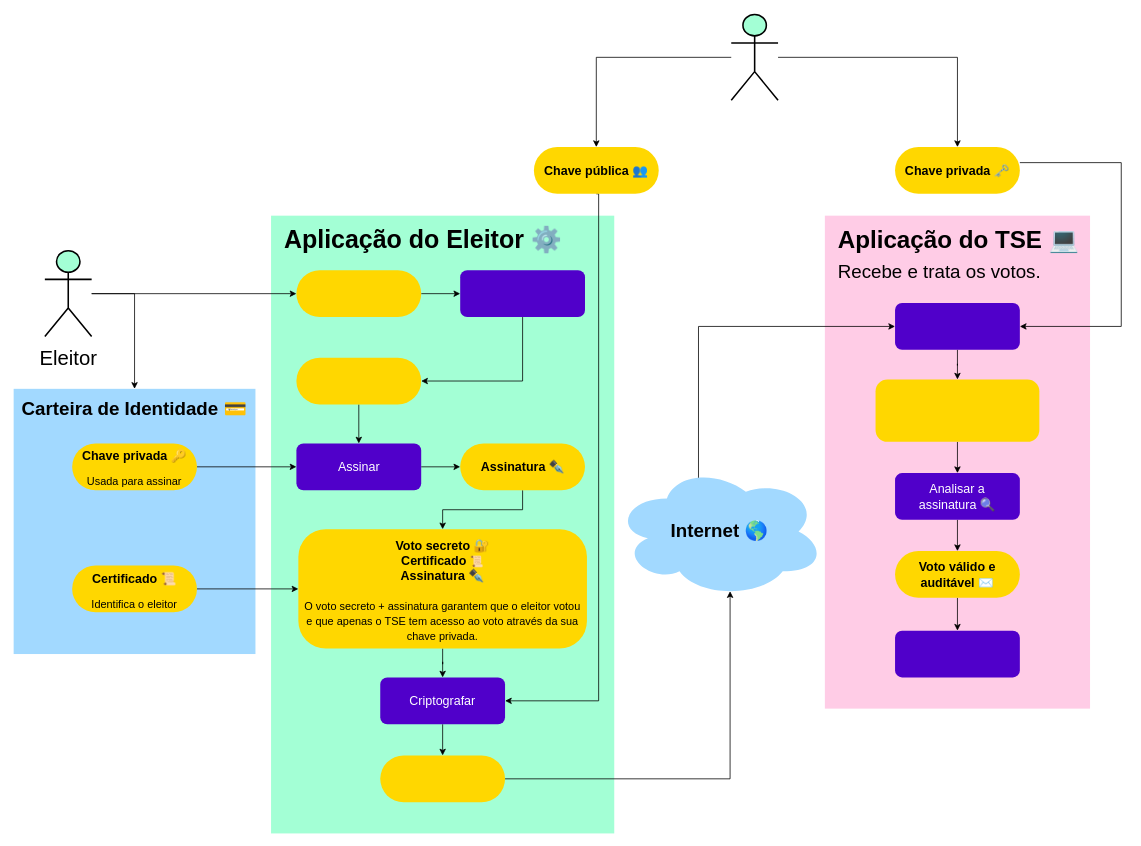
The diagram is 1141 pixels wide and 846 high, and some of its shapes have lost their labels. The centre of each missing label's shape, as x and y in pixels:
"Autoridades da eleição (TSE)" belongs at point (754, 57).
"Calcular função hash" belongs at point (522, 293).
"Decifrar" belongs at point (957, 326).
"Hash do voto secreto" belongs at point (358, 380).
"Pacote criptografado 🔐" belongs at point (442, 778).
"Tratamento dos votos (e.g. contagem)" belongs at point (957, 653).
"Voto ✉️" belongs at point (358, 293).
"Voto ✉️ Certificado 📜 Assinatura ✒️" belongs at point (957, 410).
